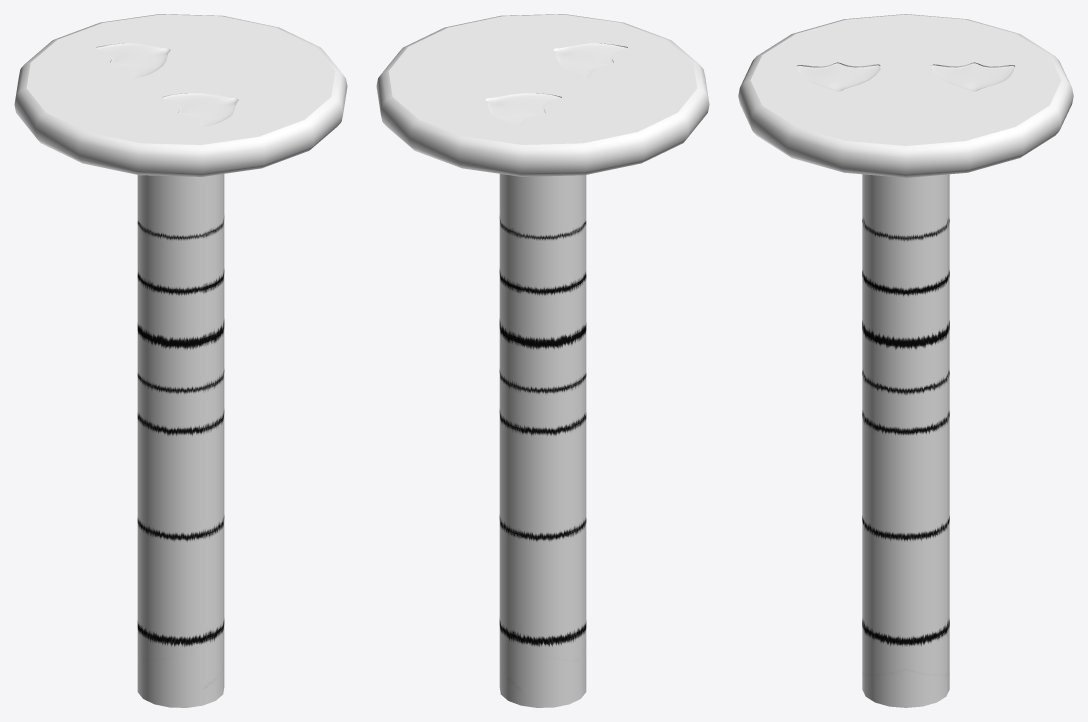
File: Figuurhouder zwaan.fbx
3 views of the same model, side by side, from view 1: azimuth 30°, elevation 25°; view 2: azimuth 150°, elevation 25°; view 3: azimuth 270°, elevation 25° (orthographic).
Parts seen in each view (by area): view 1: Figuurhouder zwaan; view 2: Figuurhouder zwaan; view 3: Figuurhouder zwaan.
Boxes of the visible parts, x1,y1,x2,y2 form: Figuurhouder zwaan: (14,14,347,707); Figuurhouder zwaan: (376,14,709,707); Figuurhouder zwaan: (738,14,1073,707).
Bounding box in the file's own units: 55.56 × 111 × 55.56.
Materials: 1 (1 with a texture image).
